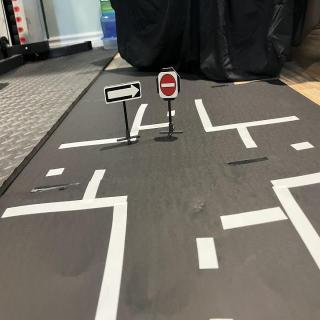sign_noentry: (158, 70, 181, 102)
sign_oneway_right: (105, 80, 144, 108)
